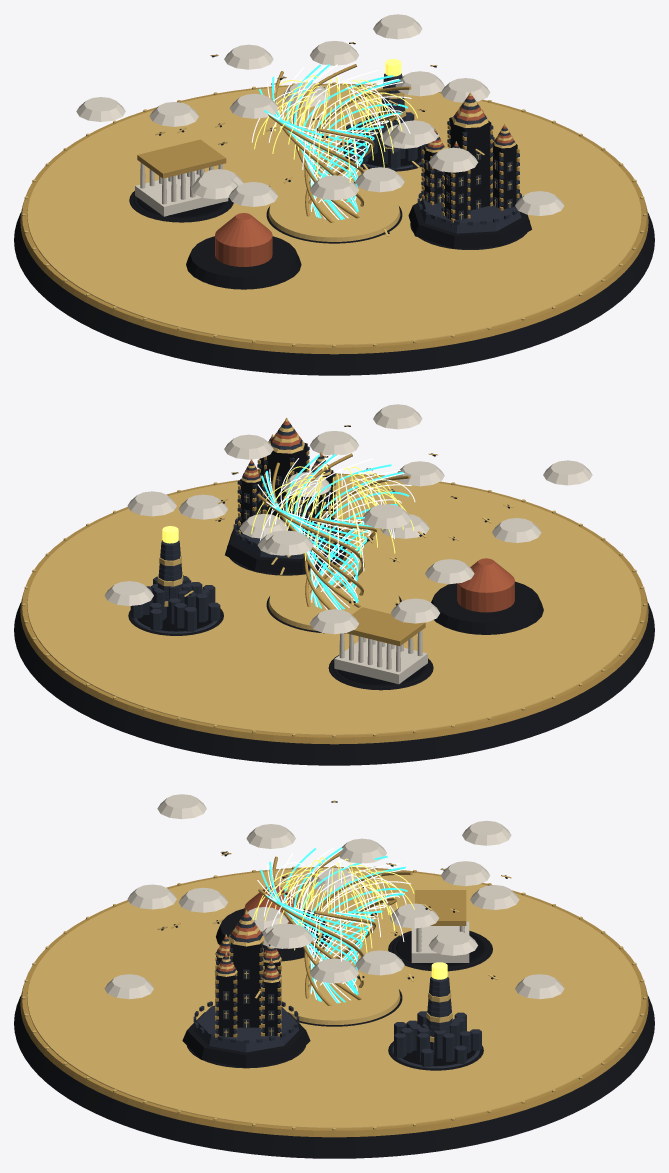
Rendered from citadel_table_v6.glb.
The picture shows the model from 3 angles, top to bottom: view 1: azimuth 30°, elevation 25°; view 2: azimuth 150°, elevation 25°; view 3: azimuth 270°, elevation 25°; orthographic projection.
Parts seen in each view (by area): view 1: MESH_Brass_Bezel_Lip, MESH_Table_BasePlinth, MESH_Brass_Bezel_Outer, MESH_Well_OuterRim, MESH_WS_Plinth, MESH_City_CurtainWall_T1, MESH_Campus_Entablature, MESH_City_CentralKeep_Body, MESH_City_CurtainWall_T2, MESH_Campus_Plinth, MESH_WS_CopperDome, MESH_WS_CopperDrum (+21 smaller); view 2: MESH_Brass_Bezel_Lip, MESH_Table_BasePlinth, MESH_Brass_Bezel_Outer, MESH_Well_OuterRim, MESH_WS_Plinth, MESH_Campus_Plinth, MESH_Campus_Entablature, MESH_City_CurtainWall_T1, MESH_WS_CopperDome, MESH_WS_CopperDrum, MESH_City_CentralKeep_Body, MESH_Cloud_Volume_2 (+21 smaller); view 3: MESH_Brass_Bezel_Lip, MESH_Table_BasePlinth, MESH_Brass_Bezel_Outer, MESH_Well_OuterRim, MESH_City_CurtainWall_T1, MESH_City_CurtainWall_T2, MESH_City_CentralKeep_Body, MESH_Campus_Entablature, MESH_Campus_Plinth, MESH_WS_Plinth, MESH_Cloud_Volume_1, MESH_Cloud_Volume_11 (+20 smaller).
Boxes of the visible parts, x1,y1,x2,y2 form: MESH_Brass_Bezel_Lip: [27, 85, 641, 345]; MESH_Table_BasePlinth: [14, 213, 654, 375]; MESH_Brass_Bezel_Outer: [20, 83, 648, 354]; MESH_Well_OuterRim: [268, 185, 400, 241]; MESH_WS_Plinth: [186, 236, 301, 288]; MESH_City_CurtainWall_T1: [408, 201, 531, 248]; MESH_Campus_Entablature: [137, 139, 226, 178]; MESH_City_CentralKeep_Body: [449, 117, 491, 210]; MESH_City_CurtainWall_T2: [420, 198, 521, 233]; MESH_Campus_Plinth: [135, 171, 228, 216]; MESH_WS_CopperDome: [215, 213, 272, 247]; MESH_WS_CopperDrum: [215, 236, 272, 266]; MESH_Brass_Bezel_Lip: [27, 475, 641, 735]; MESH_Table_BasePlinth: [14, 603, 654, 765]; MESH_Brass_Bezel_Outer: [20, 473, 648, 744]; MESH_Well_OuterRim: [268, 572, 399, 630]; MESH_WS_Plinth: [431, 581, 543, 634]; MESH_Campus_Plinth: [334, 638, 427, 684]; MESH_Campus_Entablature: [346, 607, 425, 646]; MESH_City_CurtainWall_T1: [225, 524, 347, 574]; MESH_WS_CopperDome: [458, 558, 514, 592]; MESH_WS_CopperDrum: [457, 581, 514, 612]; MESH_City_CentralKeep_Body: [265, 443, 307, 520]; MESH_Cloud_Volume_2: [127, 491, 176, 516]; MESH_Brass_Bezel_Lip: [27, 868, 641, 1128]; MESH_Table_BasePlinth: [14, 996, 654, 1158]; MESH_Brass_Bezel_Outer: [20, 867, 648, 1137]; MESH_Well_OuterRim: [281, 968, 400, 1024]; MESH_City_CurtainWall_T1: [182, 1012, 310, 1067]; MESH_City_CurtainWall_T2: [193, 1005, 299, 1052]; MESH_City_CentralKeep_Body: [231, 932, 261, 1027]; MESH_Campus_Entablature: [415, 890, 466, 925]; MESH_Campus_Plinth: [411, 921, 469, 962]; MESH_WS_Plinth: [216, 908, 329, 960]; MESH_Cloud_Volume_1: [355, 950, 404, 975]; MESH_Cloud_Volume_11: [157, 794, 206, 819].
Bounding box in the file's own units: 14.2 × 3.85 × 14.2.
